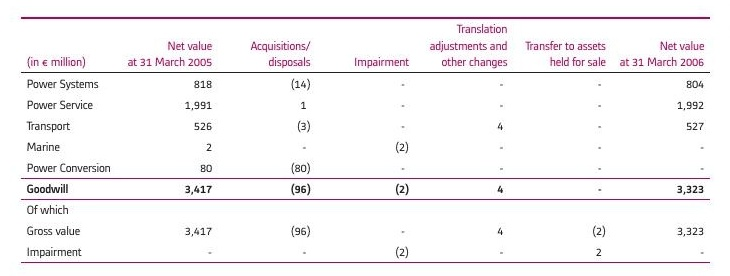table: (0, 0, 730, 276)
